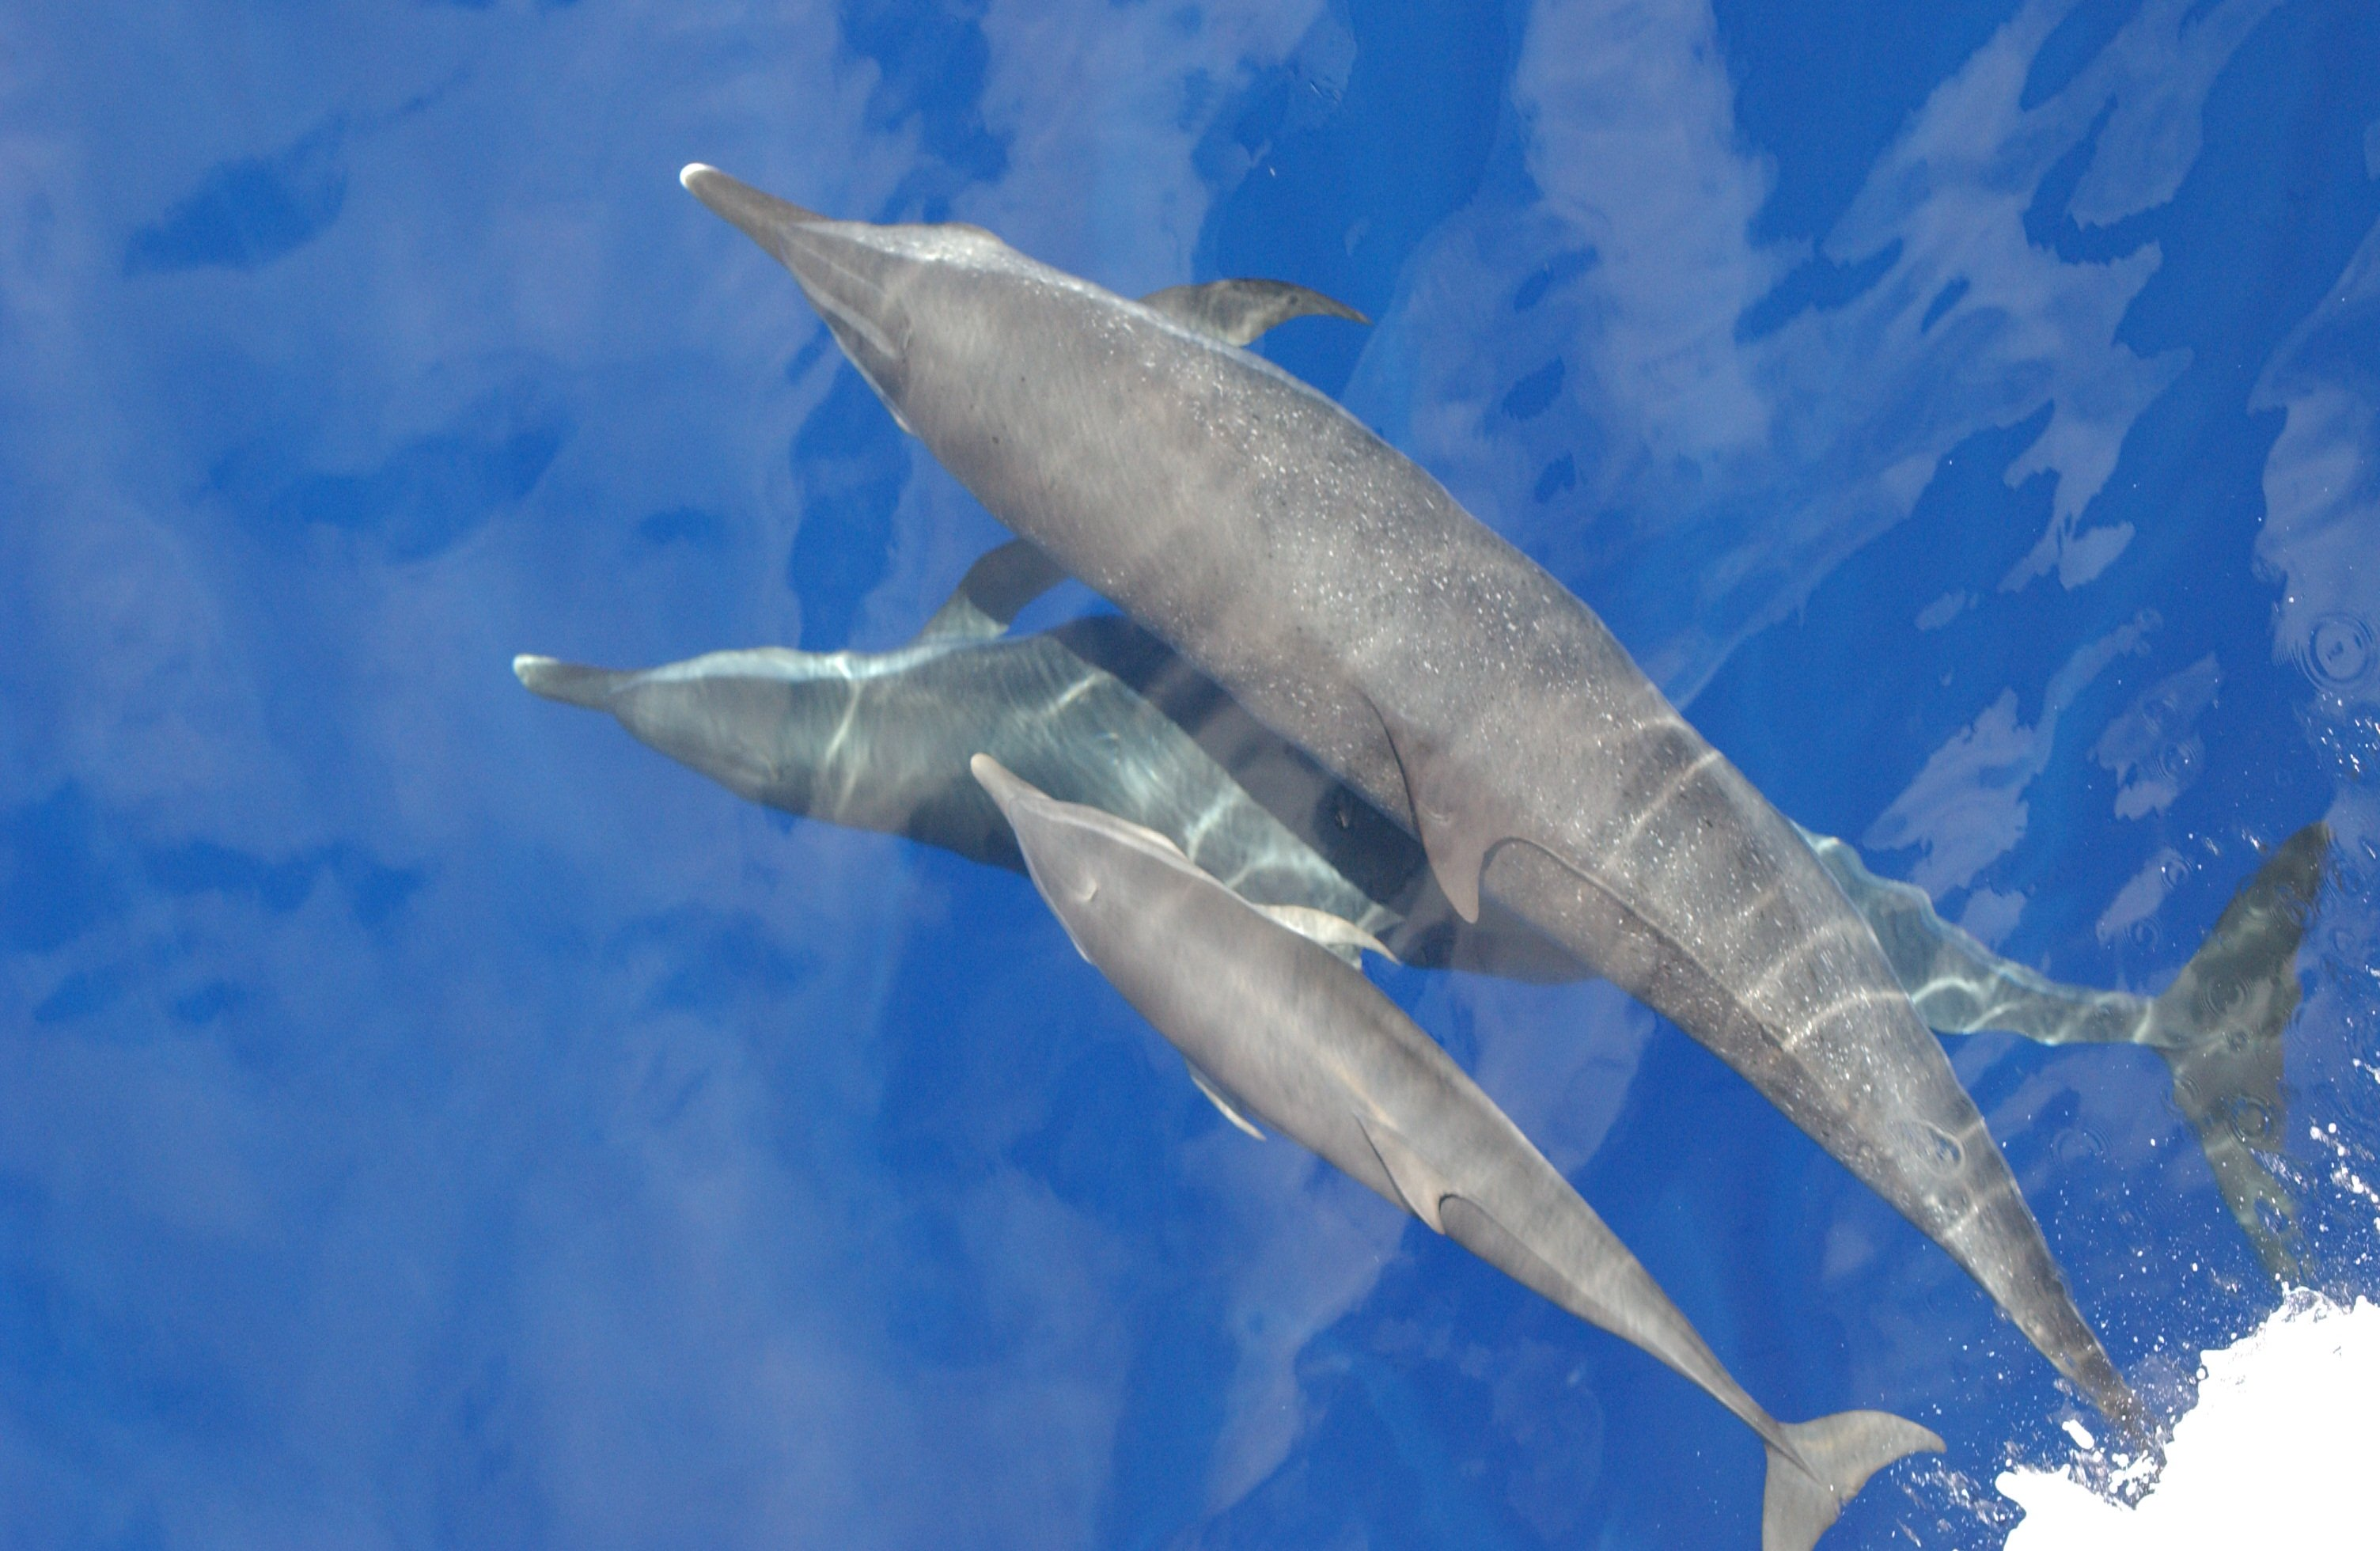dolphin: (677, 158, 2161, 1469), (501, 526, 2335, 1287), (952, 748, 1946, 1551)
